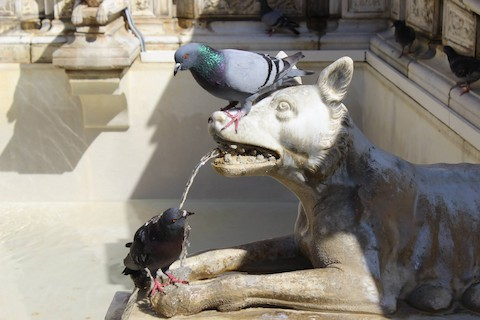pigeon: (169, 36, 312, 130), (120, 202, 205, 299), (433, 40, 477, 97), (251, 2, 301, 37), (387, 15, 420, 62)
